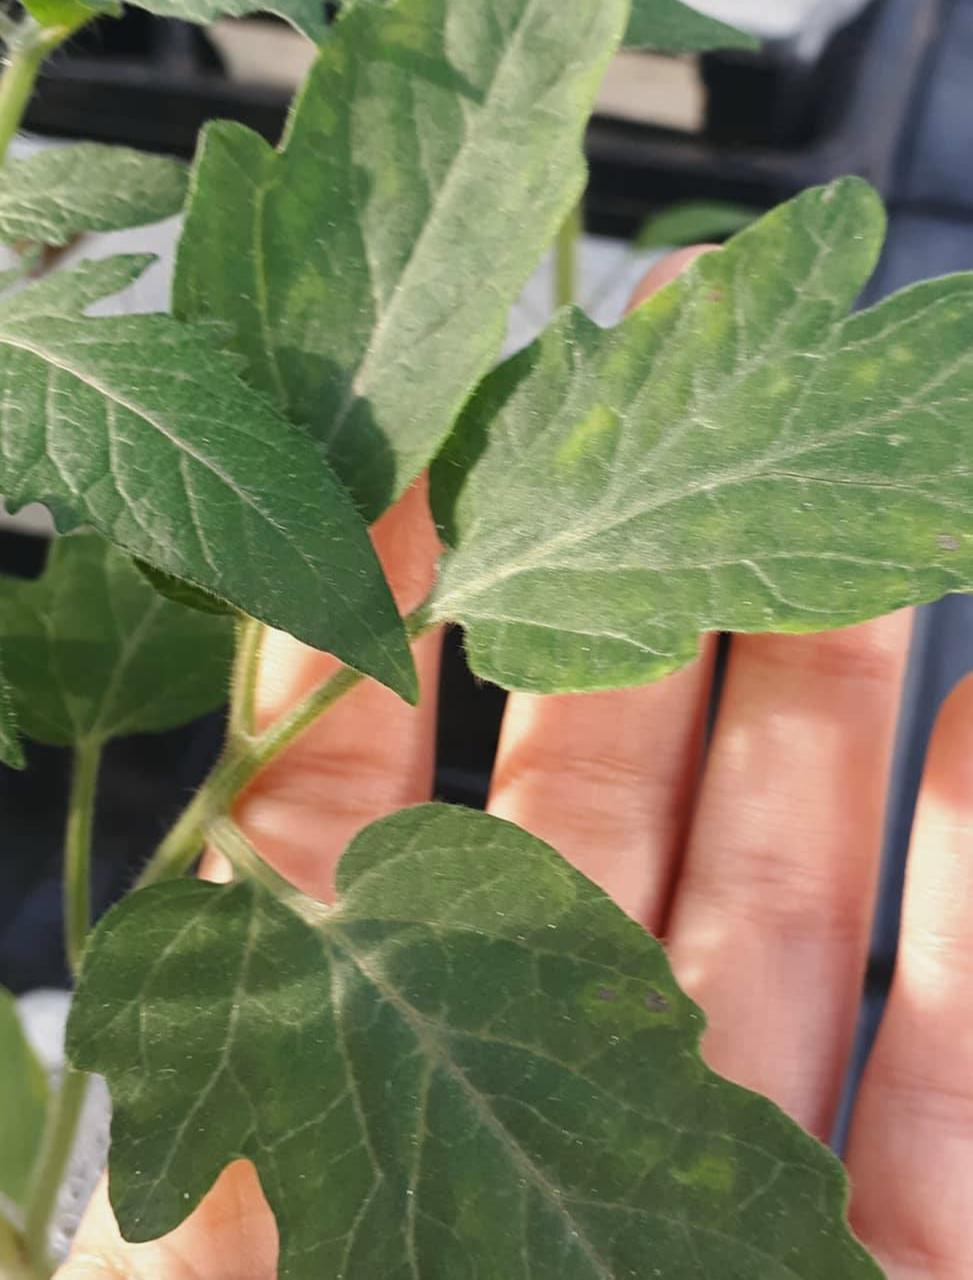Tomato mold leaf: (57, 780, 973, 1280), (407, 151, 973, 668), (0, 254, 429, 746)
